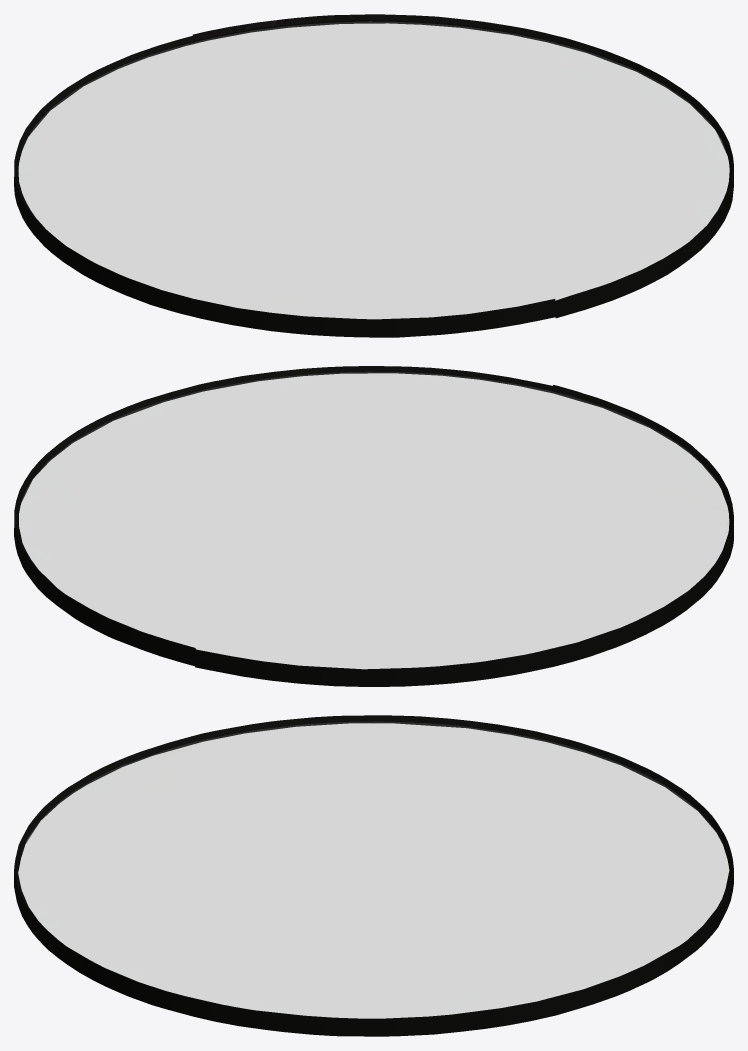
Rendered from LB-MIRROR-01.glb.
3 renders of one model, top to bottom at view 1: azimuth 30°, elevation 25°; view 2: azimuth 150°, elevation 25°; view 3: azimuth 270°, elevation 25°, orthographic.
Parts seen in each view (by area): view 1: ASY_ART_50458614_S01_NV01; view 2: ASY_ART_50458614_S01_NV01; view 3: ASY_ART_50458614_S01_NV01.
Part boxes in pixels (x1=…): ASY_ART_50458614_S01_NV01: x1=14, y1=14, x2=733, y2=337; ASY_ART_50458614_S01_NV01: x1=14, y1=366, x2=733, y2=686; ASY_ART_50458614_S01_NV01: x1=14, y1=715, x2=733, y2=1036.
Bounding box in the file's own units: 0.7981 × 0.025 × 0.8.
Materials: 2 (2 with a texture image).
